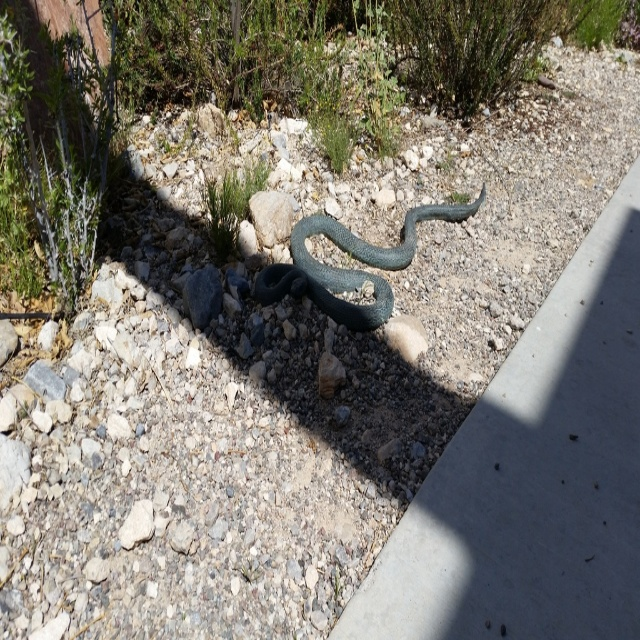Snake: (268, 179, 482, 339)
